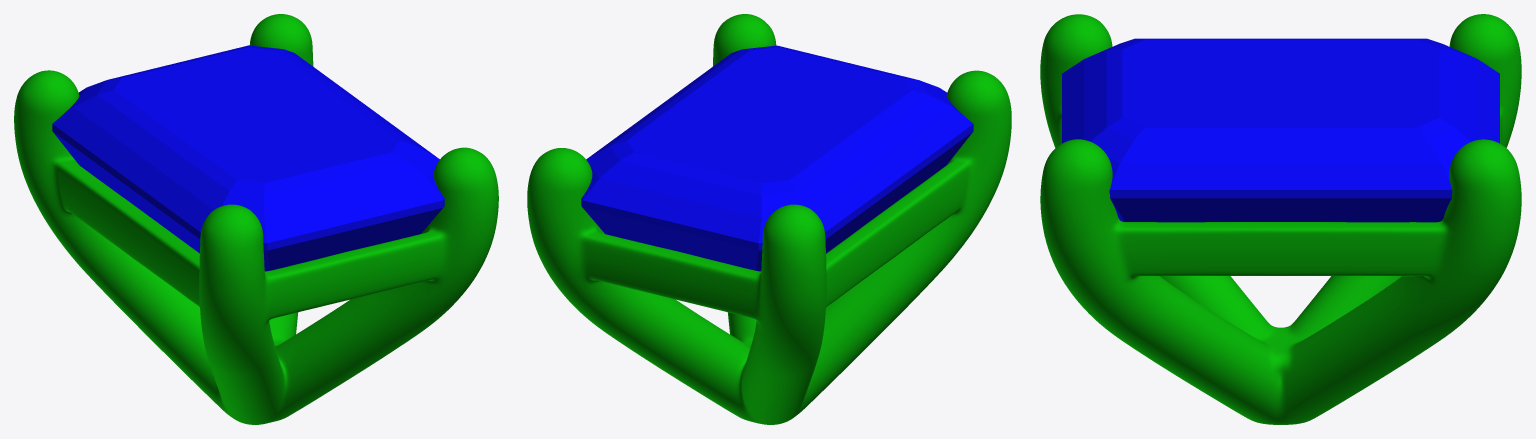
3 renders of one model, left to right at view 1: azimuth 30°, elevation 25°; view 2: azimuth 150°, elevation 25°; view 3: azimuth 270°, elevation 25°, orthographic. The views are drawn at different scales.
Parts seen in each view (by area): view 1: Metal01, Diamond_Emerald; view 2: Metal01, Diamond_Emerald; view 3: Metal01, Diamond_Emerald.
Boxes of the visible parts, x1=… form: Metal01: x1=14, y1=14, x2=498, y2=424; Diamond_Emerald: x1=52, y1=45, x2=444, y2=271; Metal01: x1=527, y1=14, x2=1011, y2=424; Diamond_Emerald: x1=581, y1=45, x2=973, y2=271; Metal01: x1=1040, y1=14, x2=1521, y2=424; Diamond_Emerald: x1=1062, y1=38, x2=1499, y2=222.
Bounding box in the file's own units: 5.66 × 5.61 × 7.34.
